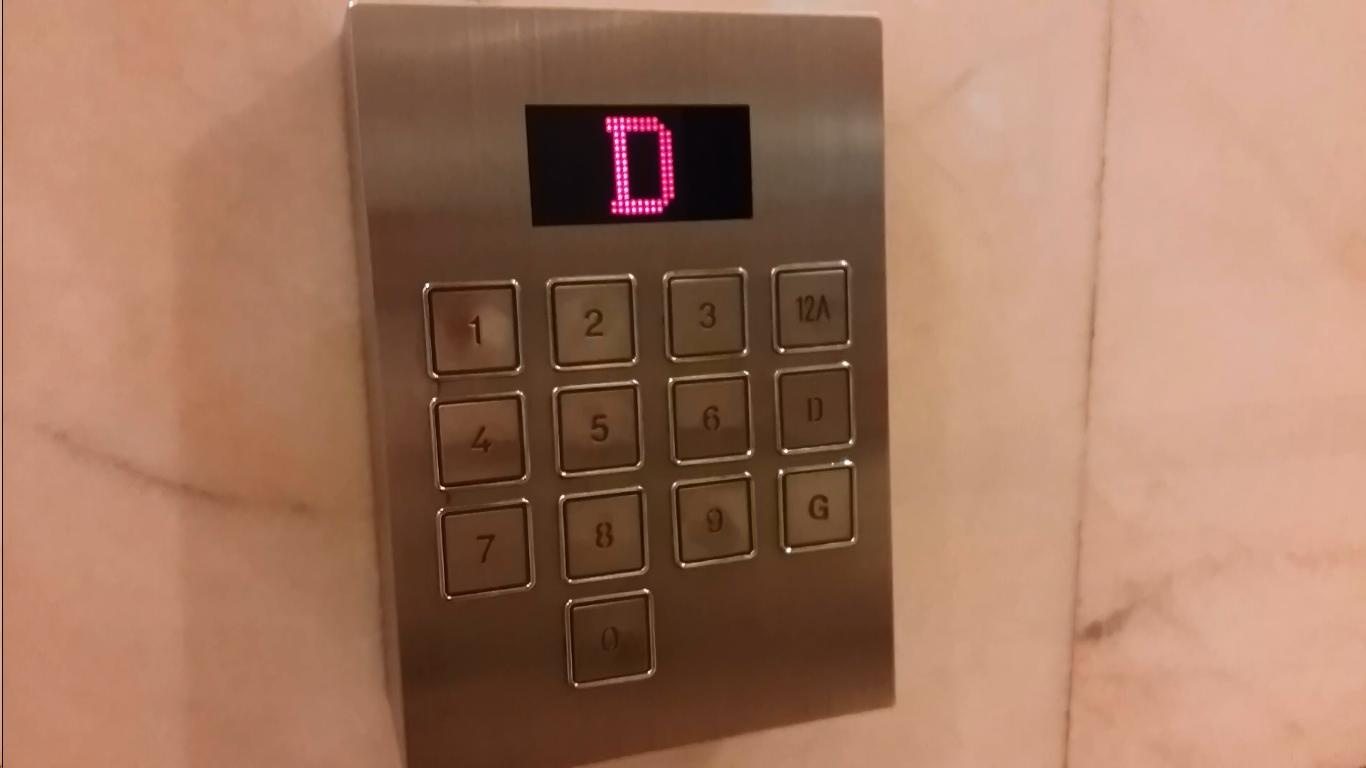0: (563, 587, 659, 692)
1: (418, 276, 528, 382)
12A: (768, 257, 856, 355)
2: (544, 271, 642, 373)
3: (660, 264, 753, 365)
4: (426, 387, 531, 491)
5: (549, 376, 648, 479)
6: (664, 369, 756, 467)
7: (433, 496, 537, 603)
8: (555, 483, 652, 586)
9: (668, 472, 759, 571)
D: (770, 360, 857, 457)
G: (775, 459, 860, 555)
led: (522, 100, 757, 231)
